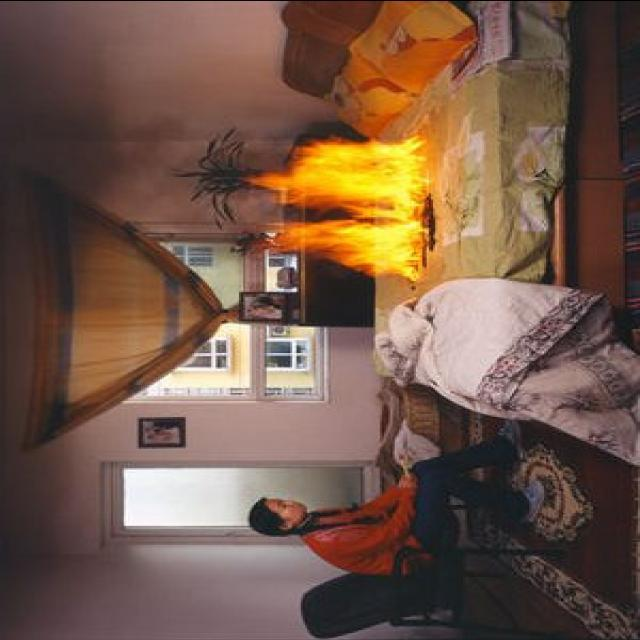Fire: (250, 132, 436, 282)
